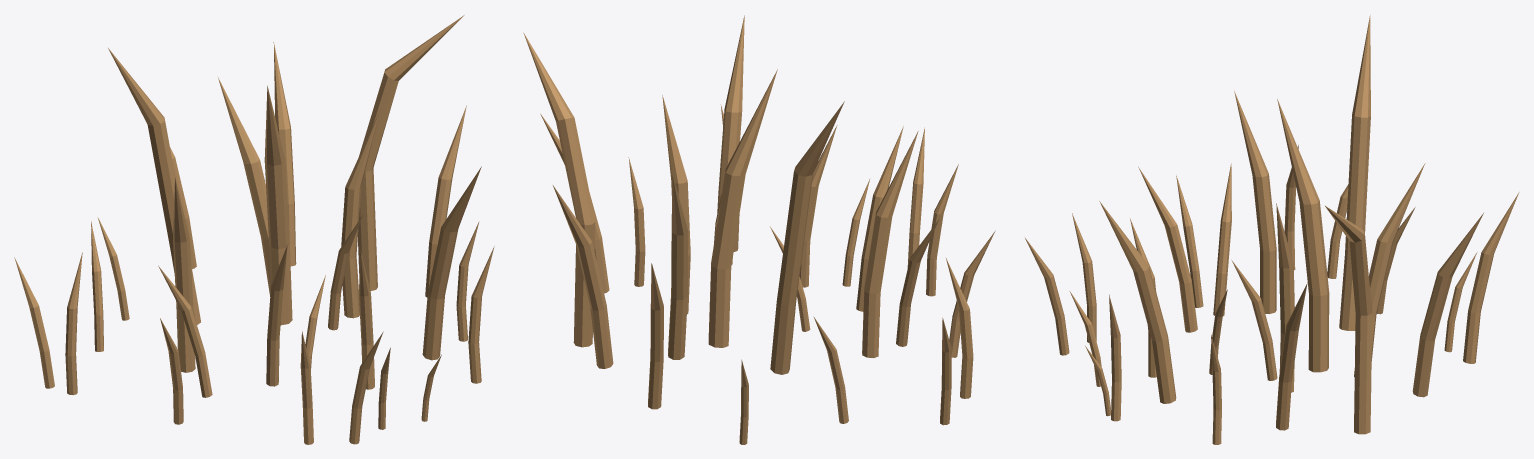
File: Grass_4.fbx
The picture shows the model from 3 angles, left to right: view 1: azimuth 30°, elevation 25°; view 2: azimuth 150°, elevation 25°; view 3: azimuth 270°, elevation 25°; orthographic projection. The views are drawn at different scales.
Visible parts, largest first — view 1: Grass_4; view 2: Grass_4; view 3: Grass_4.
Part boxes in pixels (x1,y1,x2,y2): Grass_4: (14, 15, 494, 444); Grass_4: (523, 15, 995, 444); Grass_4: (1025, 15, 1519, 444).
Size of the model in its own units: 206 by 211 by 147.
